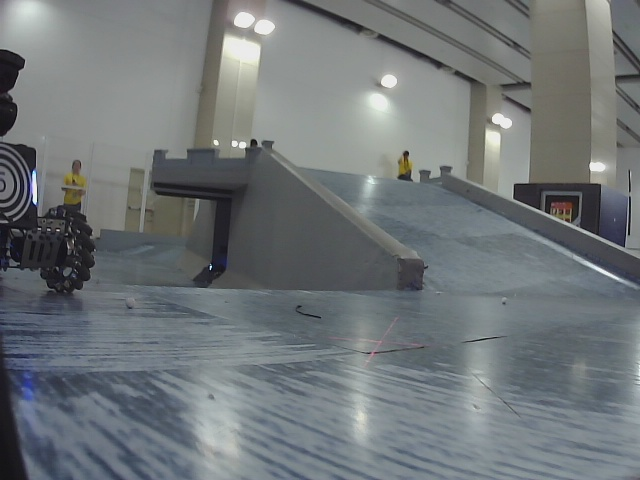lamp: (29, 170, 40, 206)
